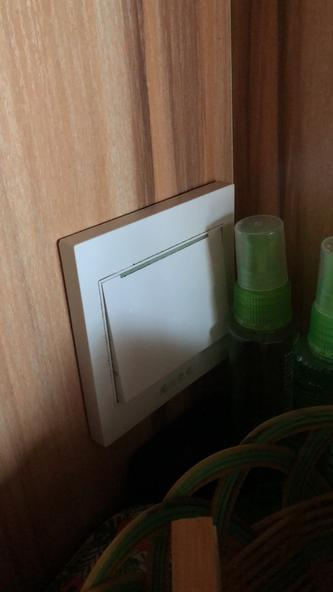switch: (95, 256, 234, 383)
